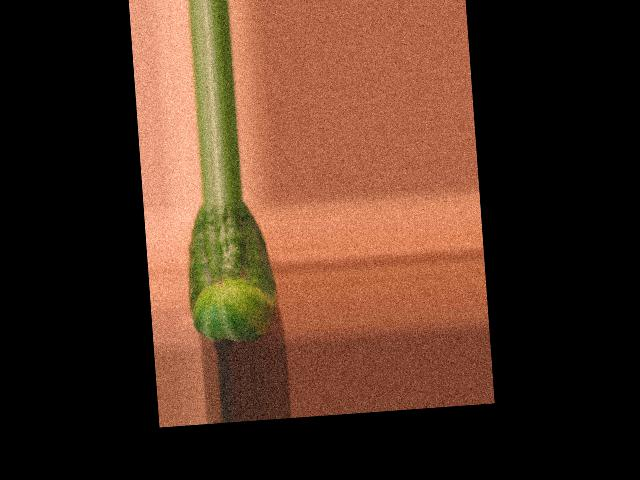cucumber: (181, 198, 279, 344)
